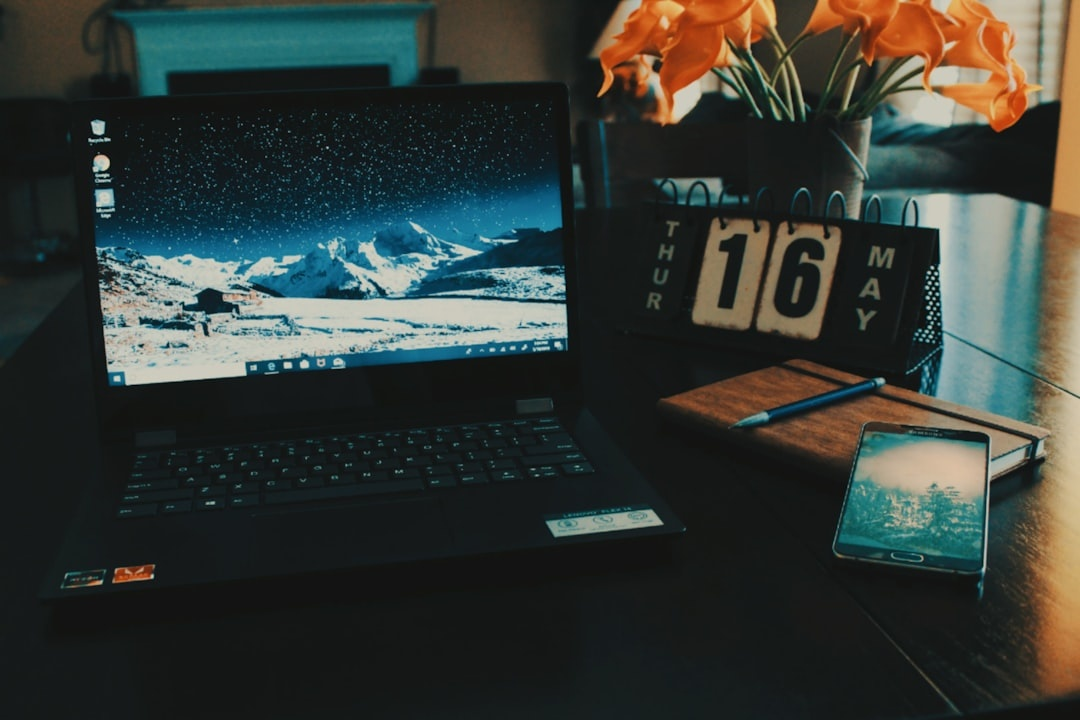laptop: (24, 66, 683, 621)
